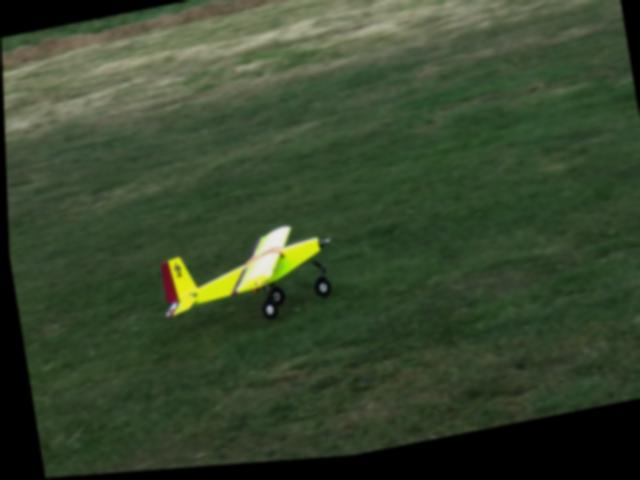plane: (151, 221, 340, 344)
